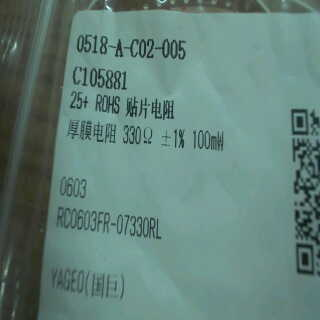330R: (120, 122, 156, 147)
